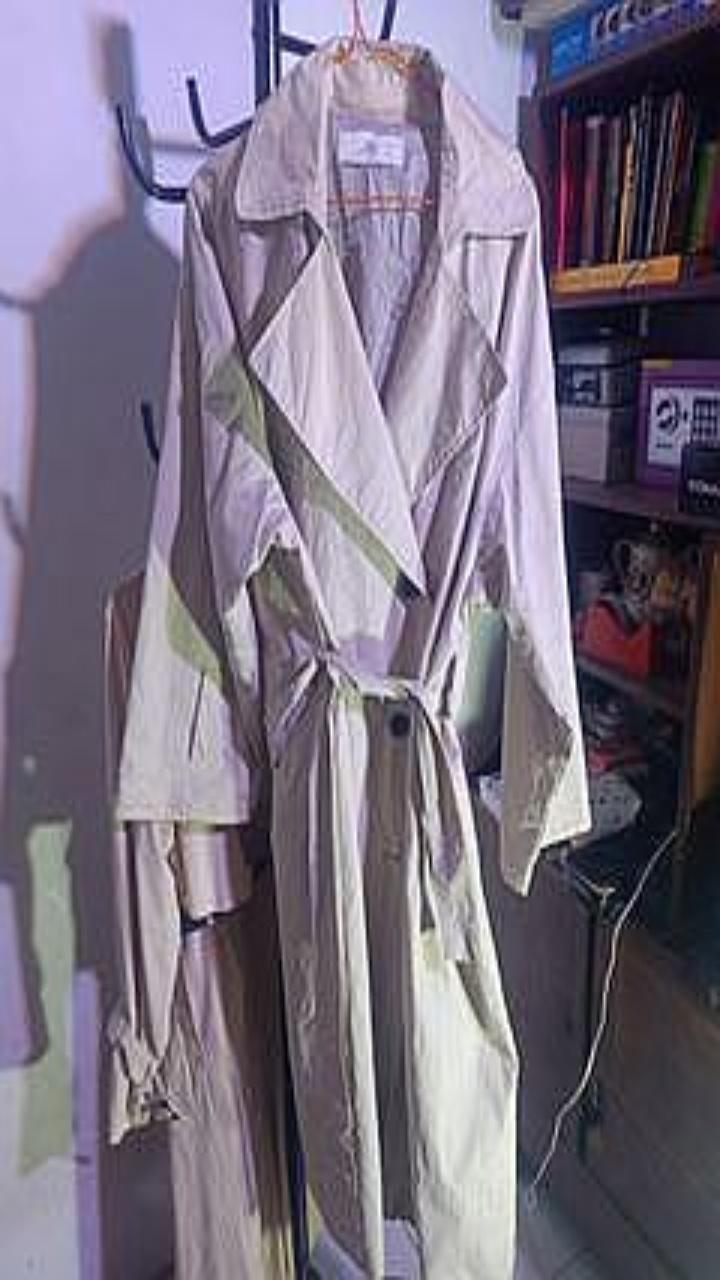Coat: (119, 44, 587, 1279)
